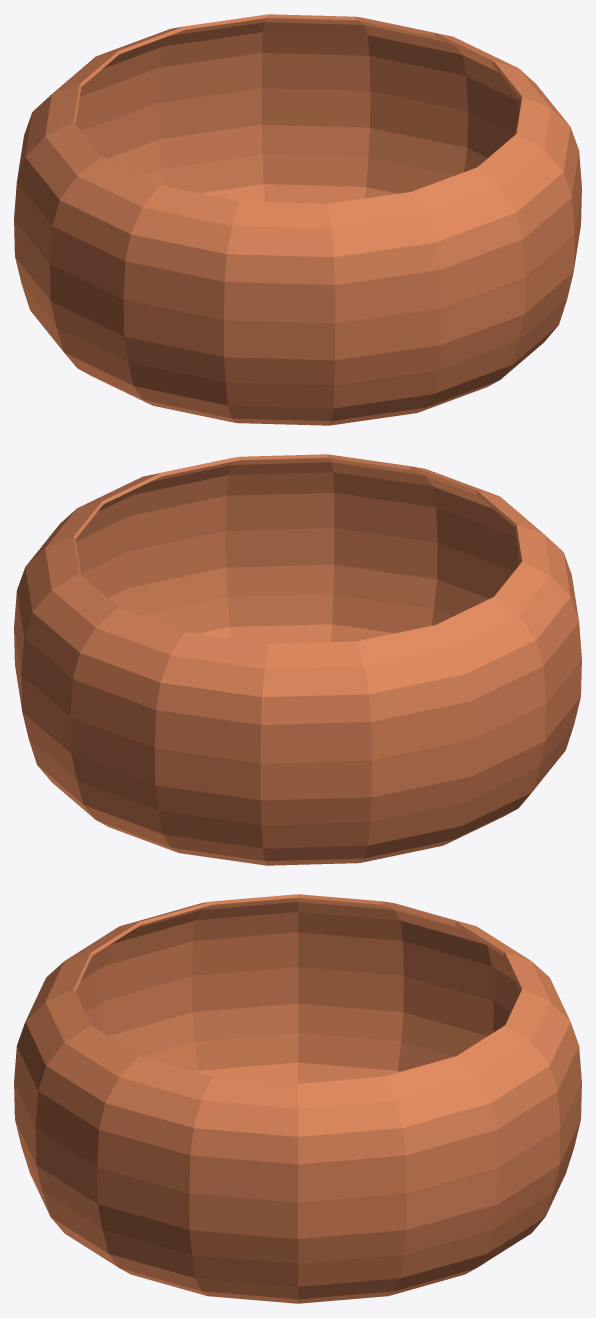
File: pot_2_empty.fbx
3 views of the same model, one above another, from view 1: azimuth 30°, elevation 25°; view 2: azimuth 150°, elevation 25°; view 3: azimuth 270°, elevation 25° (orthographic).
Visible parts, largest first — view 1: pot_empty; view 2: pot_empty; view 3: pot_empty.
Part boxes in pixels (x1,y1,x2,y2): pot_empty: [14, 14, 581, 425]; pot_empty: [14, 454, 581, 865]; pot_empty: [14, 894, 581, 1303].
Bounding box in the file's own units: 804 × 343 × 804.
